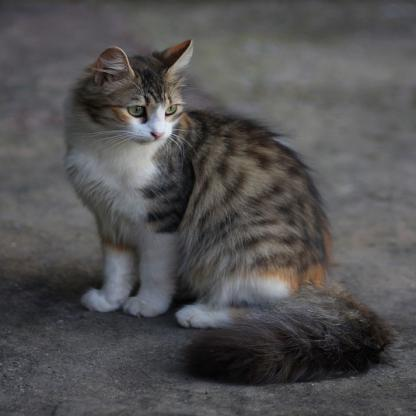cat: (66, 40, 392, 386)
